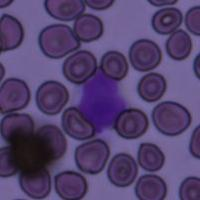M: (73, 67, 130, 130)
